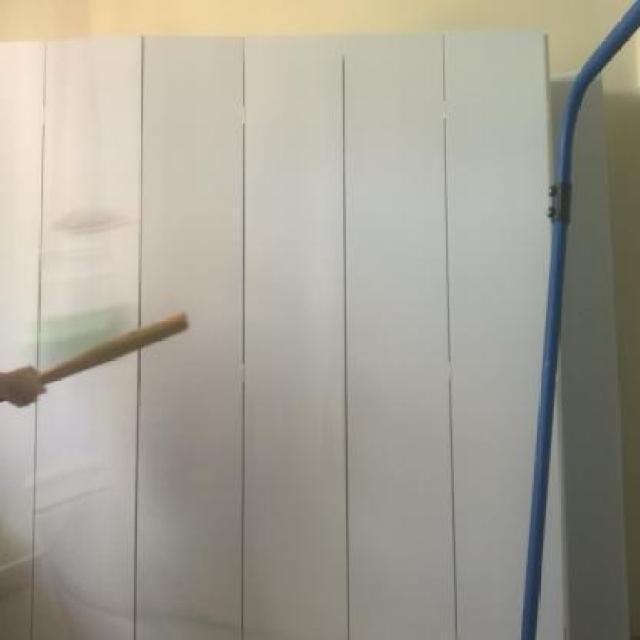baseball: (13, 290, 155, 407)
